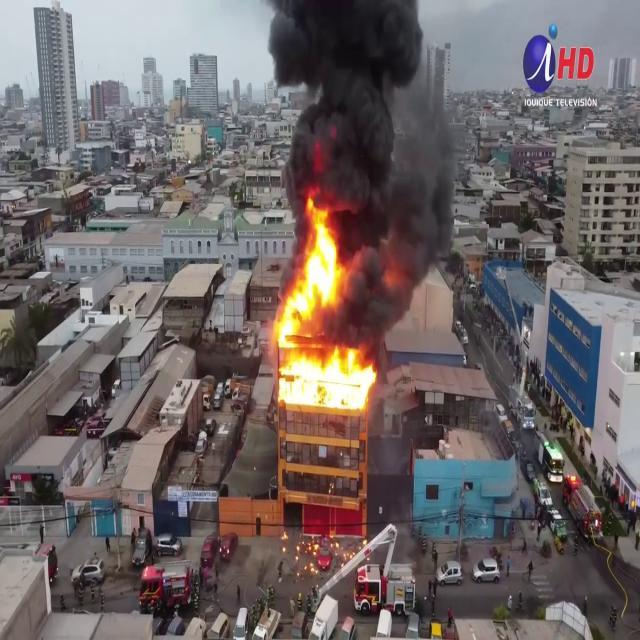Fire: (270, 195, 376, 414)
Smoke: (261, 0, 467, 294)
